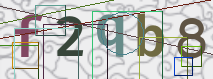2: (56, 15, 82, 56)
8: (177, 17, 205, 58)
b: (136, 11, 163, 56)
f: (13, 14, 41, 57)
q: (96, 14, 123, 57)
